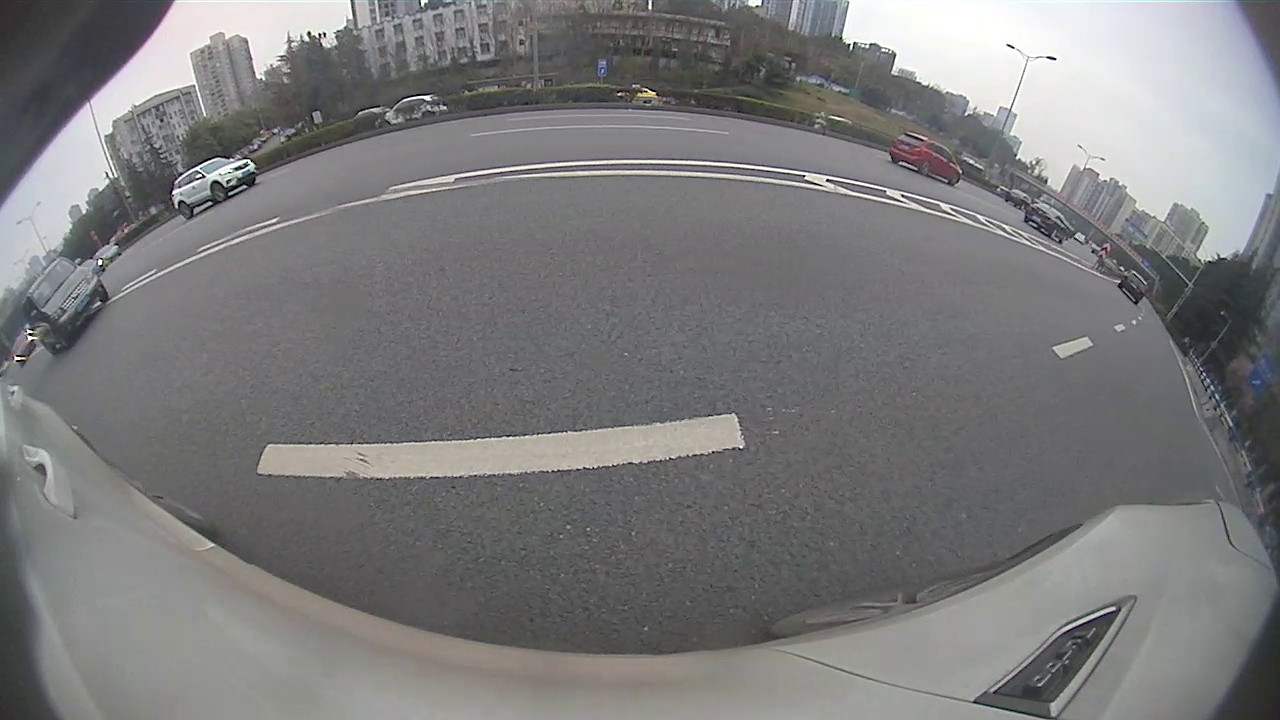car: (24, 257, 108, 355), (173, 156, 257, 220), (890, 130, 962, 185), (1024, 202, 1071, 244), (1117, 270, 1147, 303)
front: (210, 181, 228, 205)
rear: (176, 200, 195, 220), (915, 160, 930, 176)
